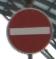No entry: (5, 6, 51, 53)
